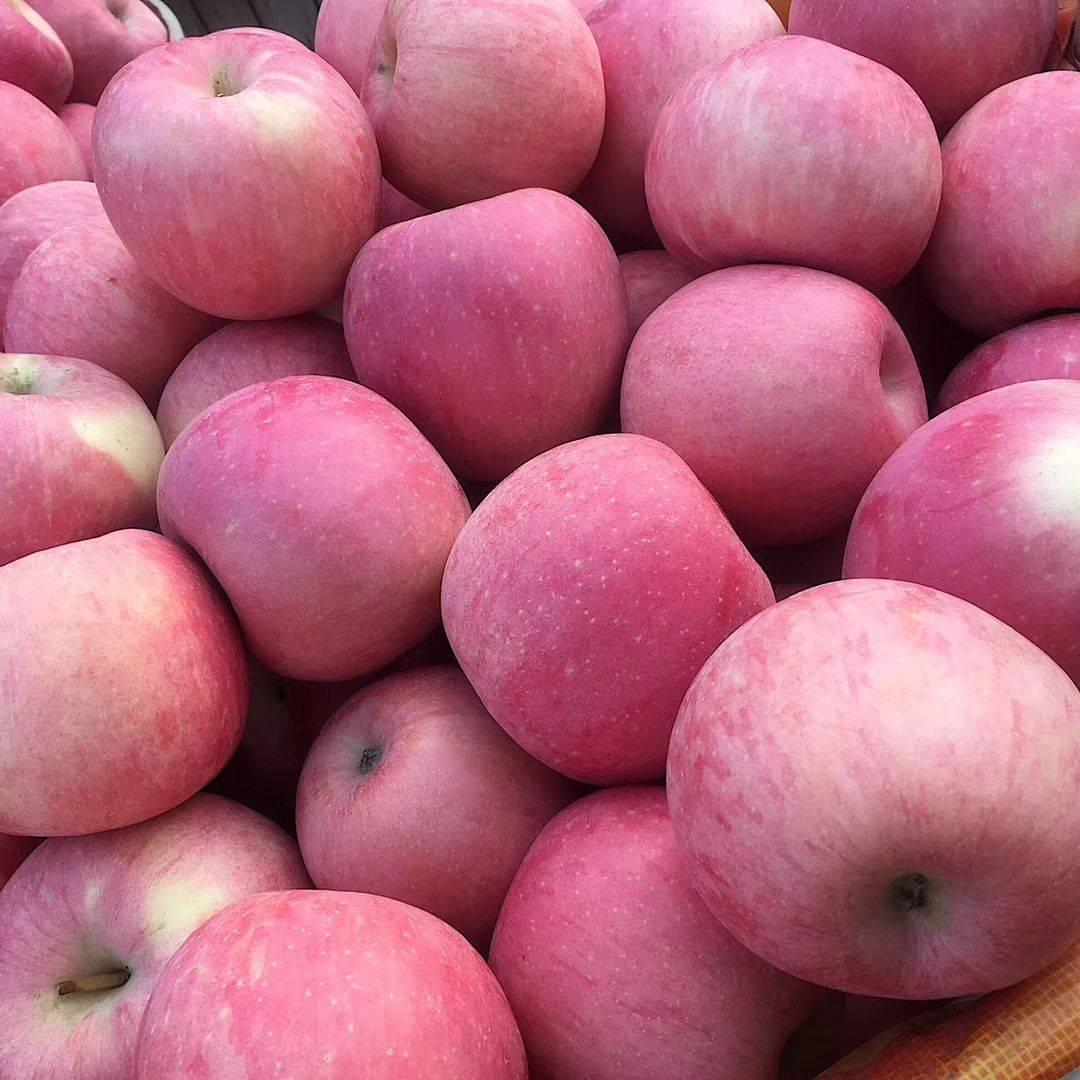apple: (665, 566, 1080, 995), (476, 475, 803, 808), (156, 375, 477, 679), (488, 784, 807, 1080), (617, 259, 922, 562), (1, 790, 312, 1077), (342, 180, 628, 483), (93, 26, 378, 321), (1, 527, 249, 844), (292, 667, 571, 947), (643, 35, 939, 295), (126, 888, 515, 1076), (841, 378, 1080, 675), (363, 1, 612, 204), (934, 70, 1080, 334), (1, 346, 165, 565), (779, 3, 1065, 127)
